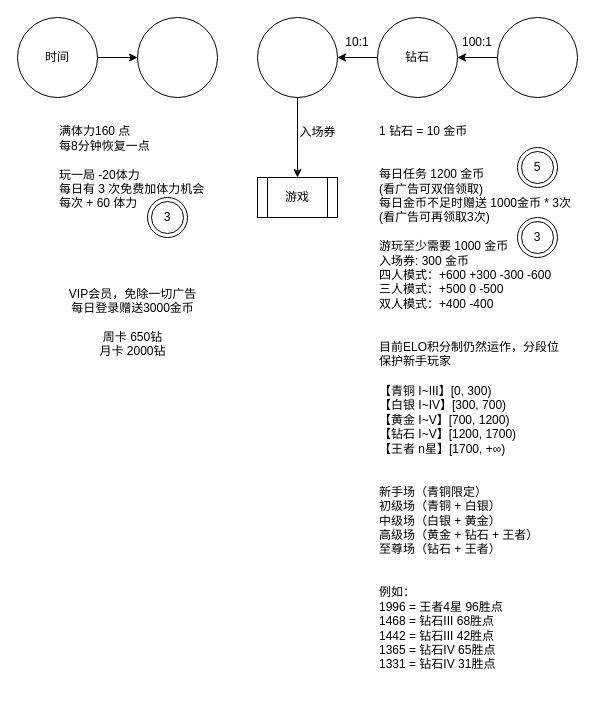
Some shapes in this 595 by 705 pixel diagram are drawn without their labels. Each missing label, with the box of its shape:
人民币: (496, 16, 578, 98)
体力: (136, 16, 218, 98)
金币: (256, 16, 338, 98)
